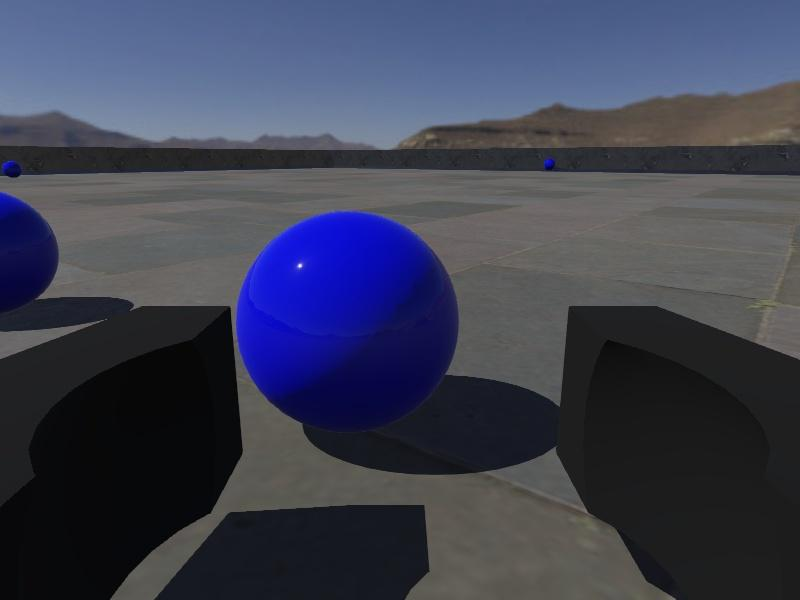blue ball: (237, 210, 460, 434), (2, 160, 23, 178), (543, 158, 556, 171)
